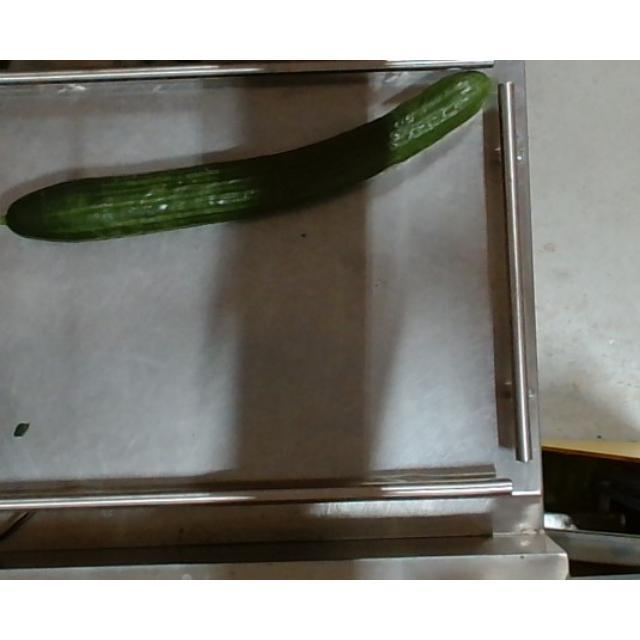cucumber: (1, 70, 493, 244)
